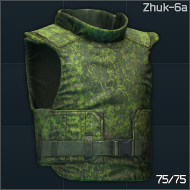BNTI Zhuk-6a heavy armor: (0, 0, 190, 190)
